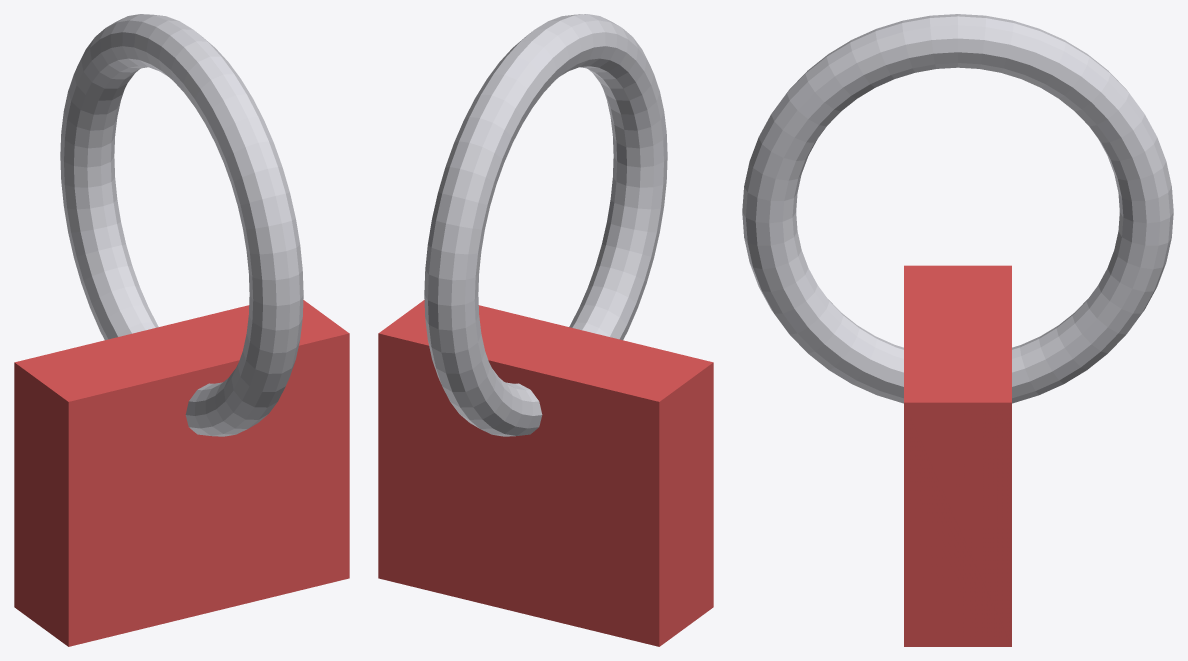
Rendered from bag_a.glb.
3 views of the same model, side by side, from view 1: azimuth 30°, elevation 25°; view 2: azimuth 150°, elevation 25°; view 3: azimuth 270°, elevation 25° (orthographic).
Visible parts, largest first — view 1: bag_a; view 2: bag_a; view 3: bag_a.
Boxes of the visible parts, bbox=[...] form: bag_a: bbox=[14, 14, 349, 646]; bag_a: bbox=[378, 14, 713, 646]; bag_a: bbox=[742, 14, 1173, 646].
Bounding box in the file's own units: 0.6 × 1.15 × 0.8.
